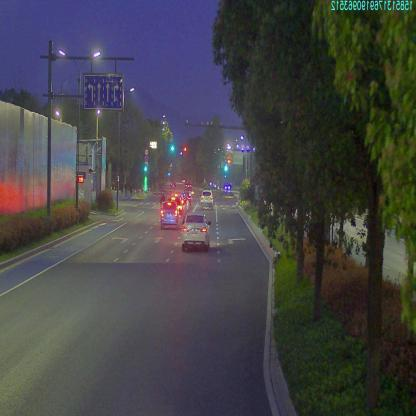traffic-light: (183, 144, 188, 153), (171, 143, 175, 150)
